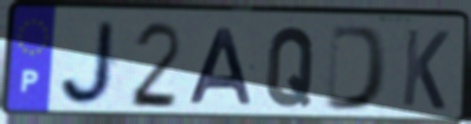2: (129, 20, 184, 111)
A: (185, 26, 257, 108)
D: (321, 22, 391, 114)
J: (57, 19, 120, 109)
K: (398, 26, 452, 113)
Q: (263, 24, 319, 110)
